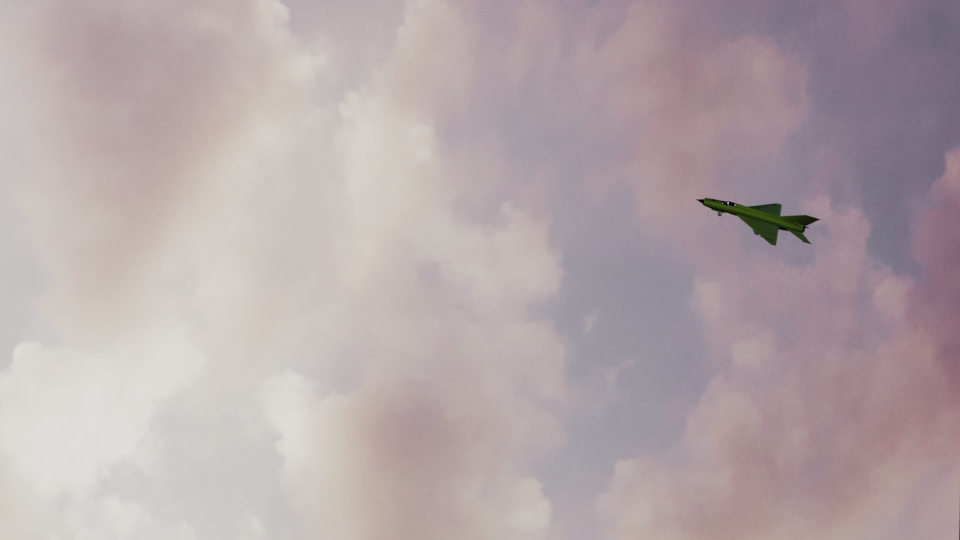plane: (696, 193, 820, 248)
